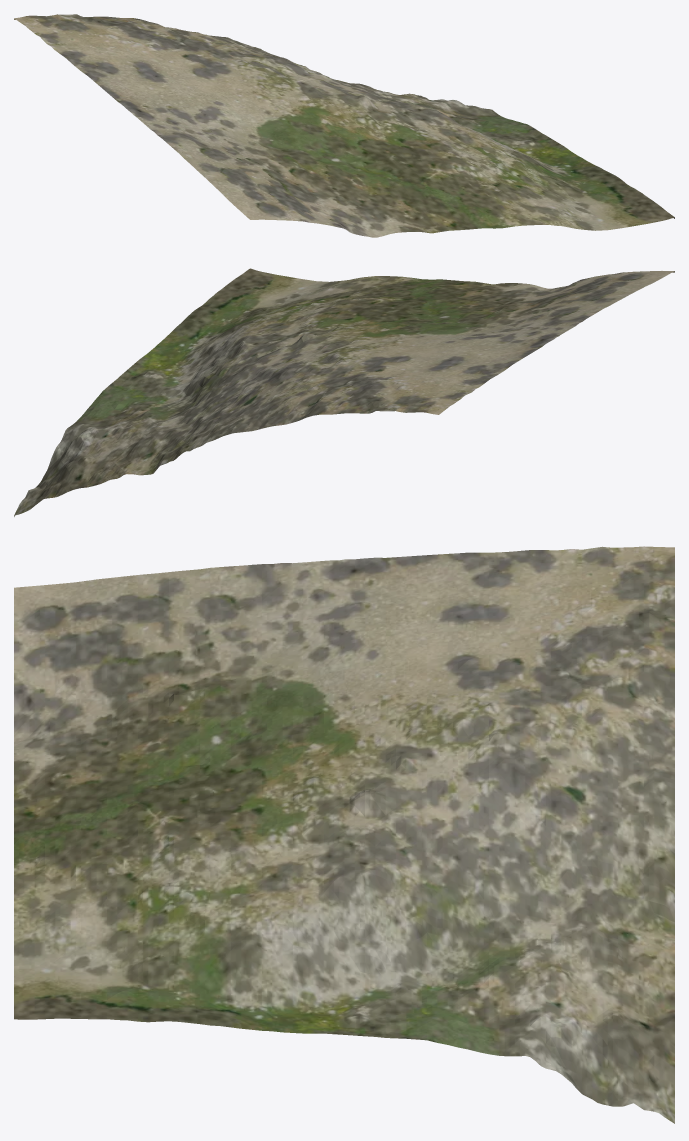
The picture shows the model from 3 angles, top to bottom: view 1: azimuth 30°, elevation 25°; view 2: azimuth 150°, elevation 25°; view 3: azimuth 270°, elevation 25°; orthographic projection. The views are drawn at different scales.
Bounding box in the file's own units: 250 × 116 × 241.
1 material, 1 textured.
